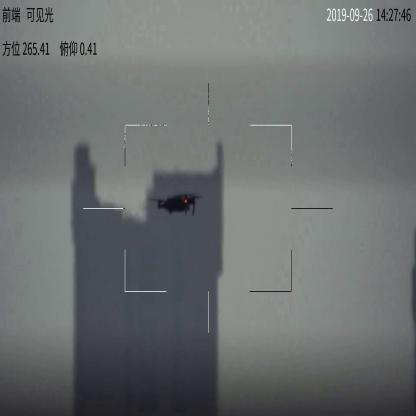uav: (147, 190, 207, 217)
